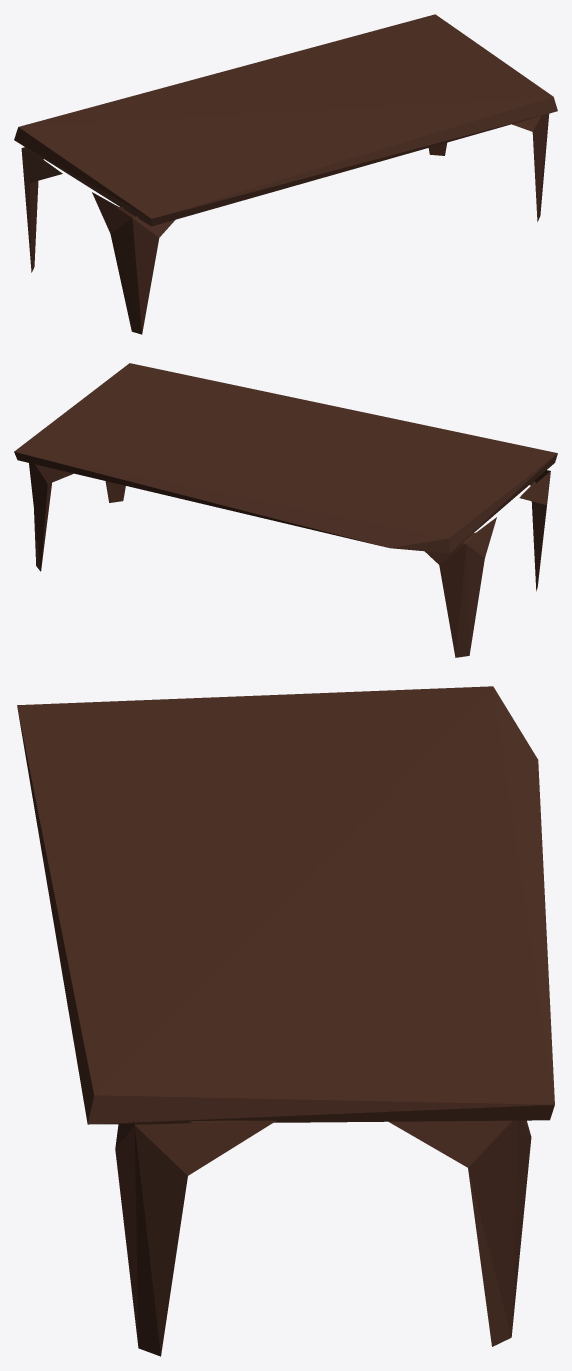
Rendered from coffee-table.lod2.glb.
The picture shows the model from 3 angles, top to bottom: view 1: azimuth 30°, elevation 25°; view 2: azimuth 150°, elevation 25°; view 3: azimuth 270°, elevation 25°; orthographic projection. The views are drawn at different scales.
Visible parts, largest first — view 1: COFFEETABLE_TEXSET_A_0; view 2: COFFEETABLE_TEXSET_A_0; view 3: COFFEETABLE_TEXSET_A_0.
Boxes of the visible parts, x1,y1,x2,y2 form: COFFEETABLE_TEXSET_A_0: [14, 14, 557, 334]; COFFEETABLE_TEXSET_A_0: [14, 363, 557, 657]; COFFEETABLE_TEXSET_A_0: [17, 686, 554, 1356].
Size of the model in its own units: 1.28 by 0.3559 by 0.6726.
